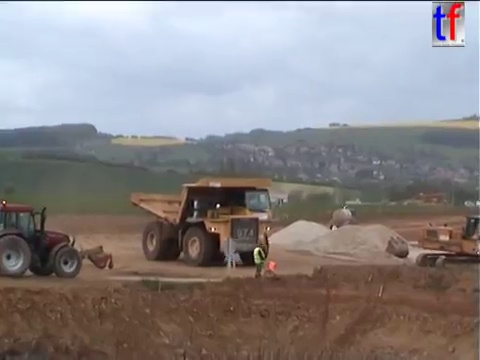excavator: (414, 213, 480, 275)
truck: (128, 175, 285, 268)
wheel loader: (1, 197, 115, 280)
worker: (329, 205, 356, 231), (251, 240, 267, 281)
